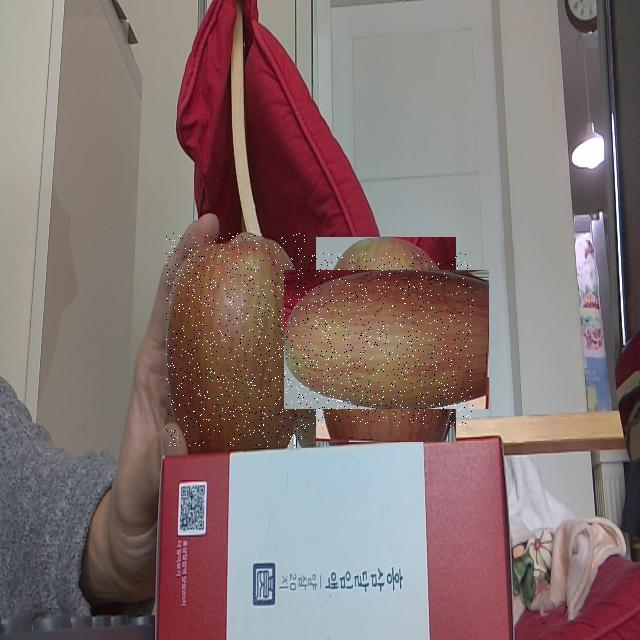apple: (166, 233, 306, 447), (300, 253, 473, 426)
